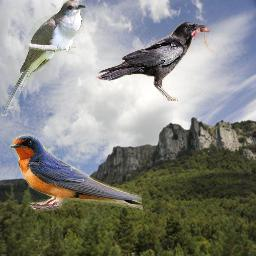Crow: (96, 19, 219, 101)
Cuckoo: (0, 0, 86, 117)
Swallow: (7, 132, 143, 214)
